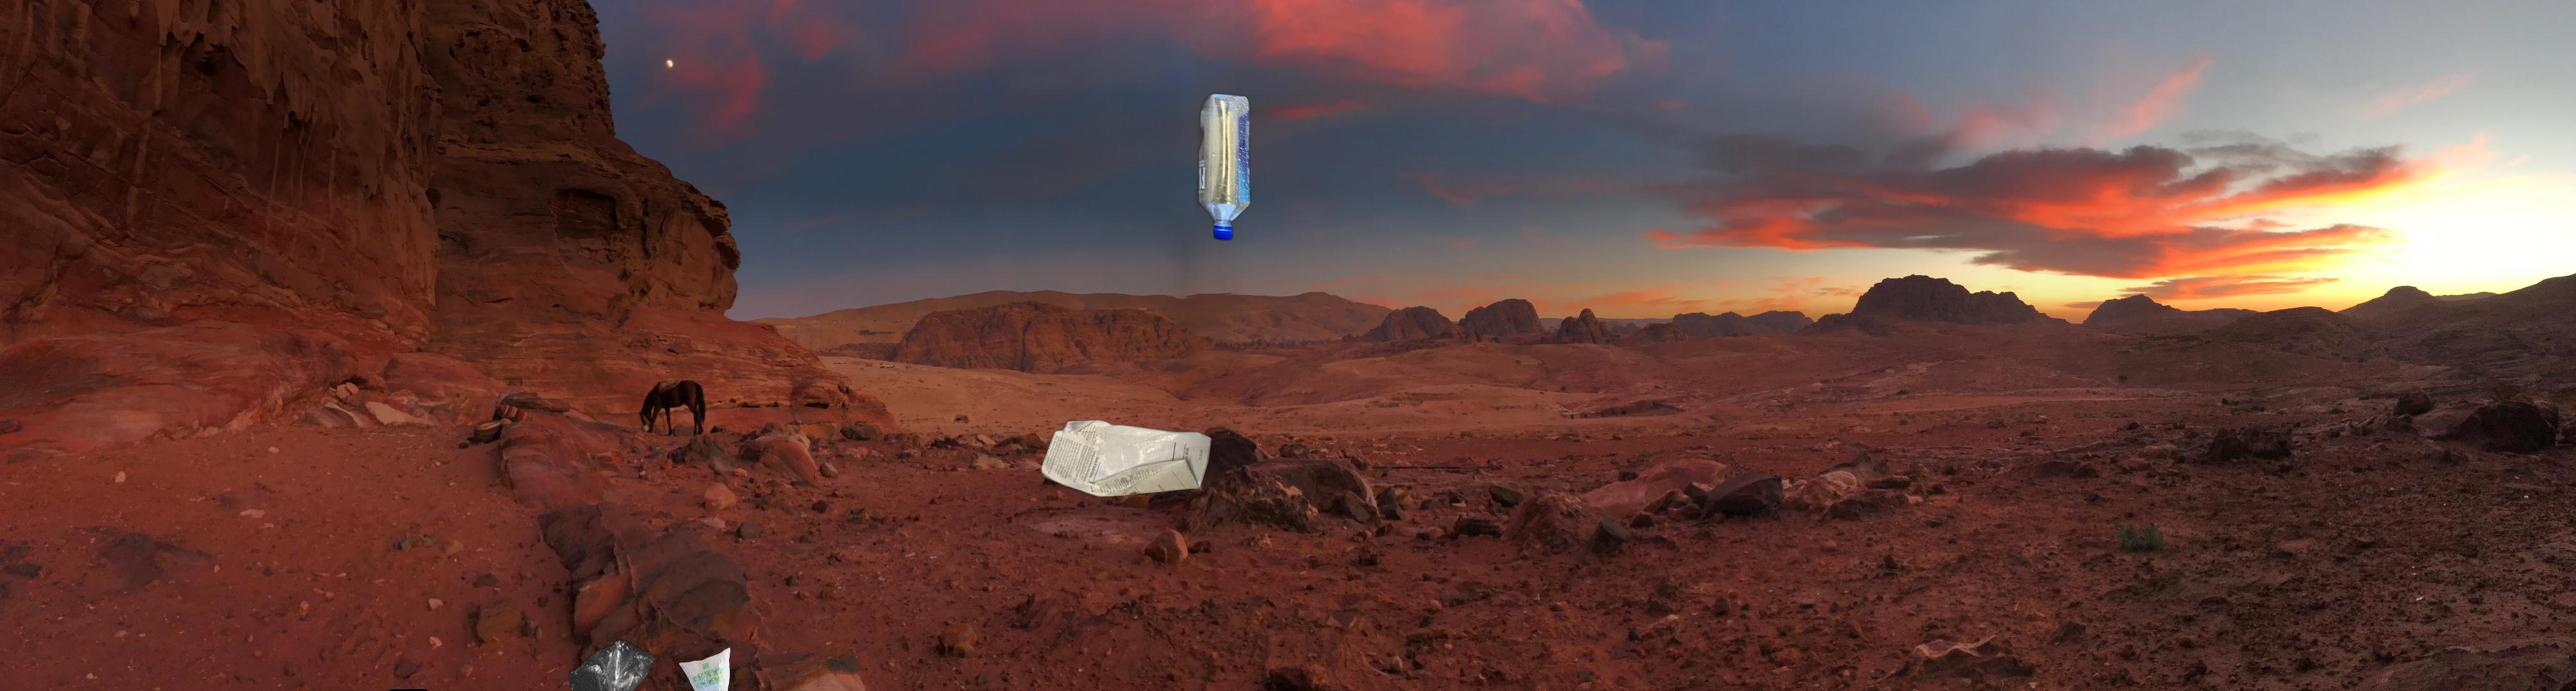paper: (1037, 418, 1216, 499)
plastic-bag: (559, 638, 731, 691)
plastic-bottles: (1188, 89, 1253, 243)
trashbox-cardboard: (1503, 684, 2034, 691)
